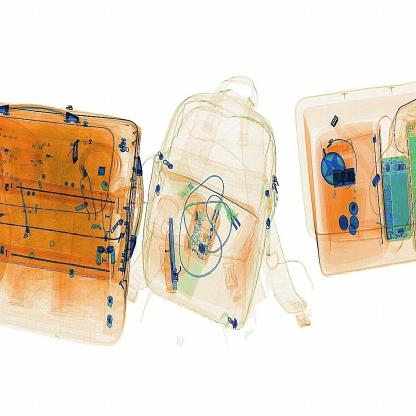pliers: (164, 216, 183, 300)
